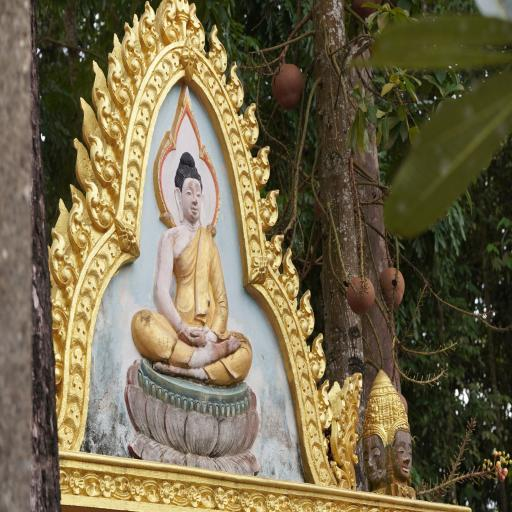hoa: (97, 473, 118, 500), (157, 482, 178, 509), (126, 478, 146, 504), (68, 468, 85, 496), (188, 484, 204, 510), (264, 487, 280, 512), (237, 487, 252, 512), (215, 487, 229, 512)
la: (65, 341, 88, 377), (96, 239, 119, 270), (74, 292, 96, 323), (56, 421, 76, 453), (62, 398, 83, 428), (147, 69, 167, 99), (70, 316, 88, 349), (236, 172, 256, 201), (123, 159, 140, 193), (88, 251, 106, 283), (79, 276, 101, 302), (242, 194, 261, 224), (213, 88, 230, 121), (226, 130, 245, 159), (68, 372, 84, 406), (284, 331, 304, 358), (154, 53, 170, 86), (129, 143, 145, 173), (132, 121, 147, 153), (122, 204, 136, 238), (168, 46, 185, 74), (300, 374, 315, 404), (136, 102, 152, 130), (192, 55, 208, 83), (140, 86, 156, 113), (204, 71, 220, 98), (233, 152, 248, 180), (263, 270, 278, 298), (273, 288, 290, 312), (124, 184, 138, 213), (222, 113, 237, 139), (240, 220, 261, 238), (295, 352, 308, 380), (280, 309, 294, 334), (304, 398, 316, 425), (312, 445, 325, 469), (306, 424, 319, 447), (244, 240, 258, 260), (318, 468, 334, 485)
lua: (157, 0, 203, 61), (46, 228, 79, 304), (95, 82, 130, 152), (87, 135, 123, 199), (117, 25, 149, 94), (81, 172, 112, 235), (106, 56, 134, 122), (232, 90, 260, 151), (219, 54, 246, 116), (69, 186, 90, 260), (201, 18, 225, 80), (316, 374, 342, 430), (278, 243, 300, 303), (304, 326, 326, 386), (136, 0, 160, 53), (263, 226, 287, 278), (257, 183, 282, 230), (292, 288, 315, 338), (252, 143, 273, 190)
than: (130, 117, 258, 410), (358, 362, 422, 512)
